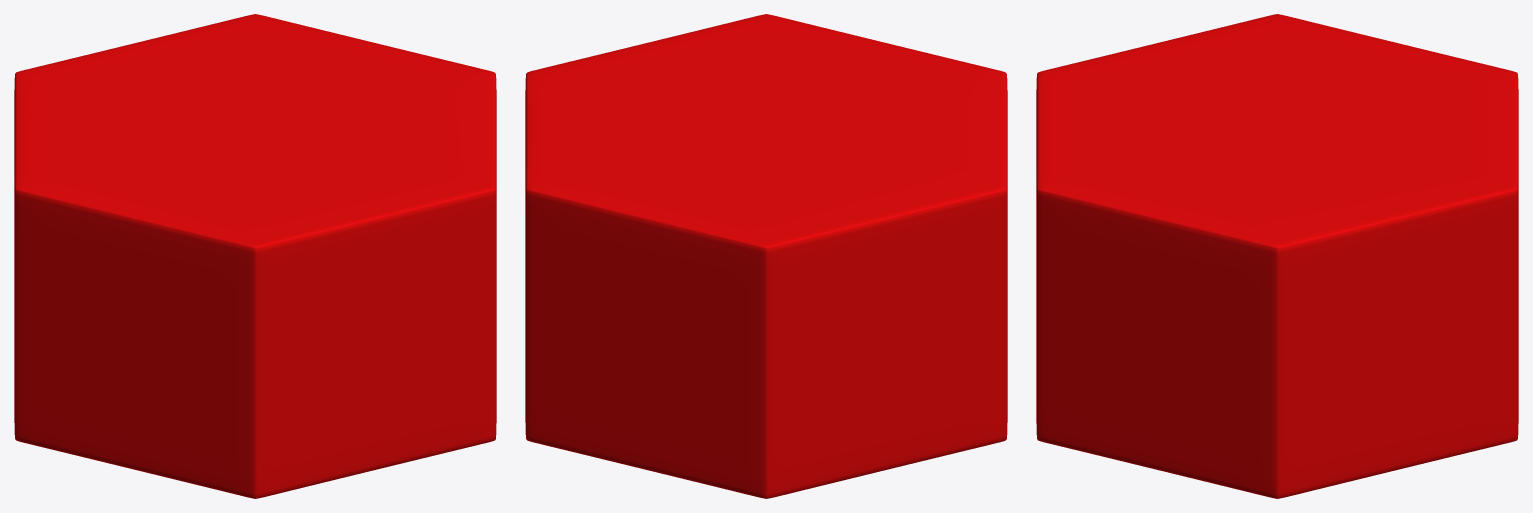
The model's file is RedHexagon.glb.
3 views of the same model, side by side, from view 1: azimuth 30°, elevation 25°; view 2: azimuth 150°, elevation 25°; view 3: azimuth 270°, elevation 25° (orthographic).
Parts seen in each view (by area): view 1: 20265_Hexagonal_prism_v1; view 2: 20265_Hexagonal_prism_v1; view 3: 20265_Hexagonal_prism_v1.
Boxes of the visible parts, box(x1,y1,x2,y2) form: 20265_Hexagonal_prism_v1: box(14, 14, 496, 498); 20265_Hexagonal_prism_v1: box(525, 14, 1007, 498); 20265_Hexagonal_prism_v1: box(1036, 14, 1518, 498).
Bounding box in the file's own units: 7.85 × 3.95 × 6.82.
